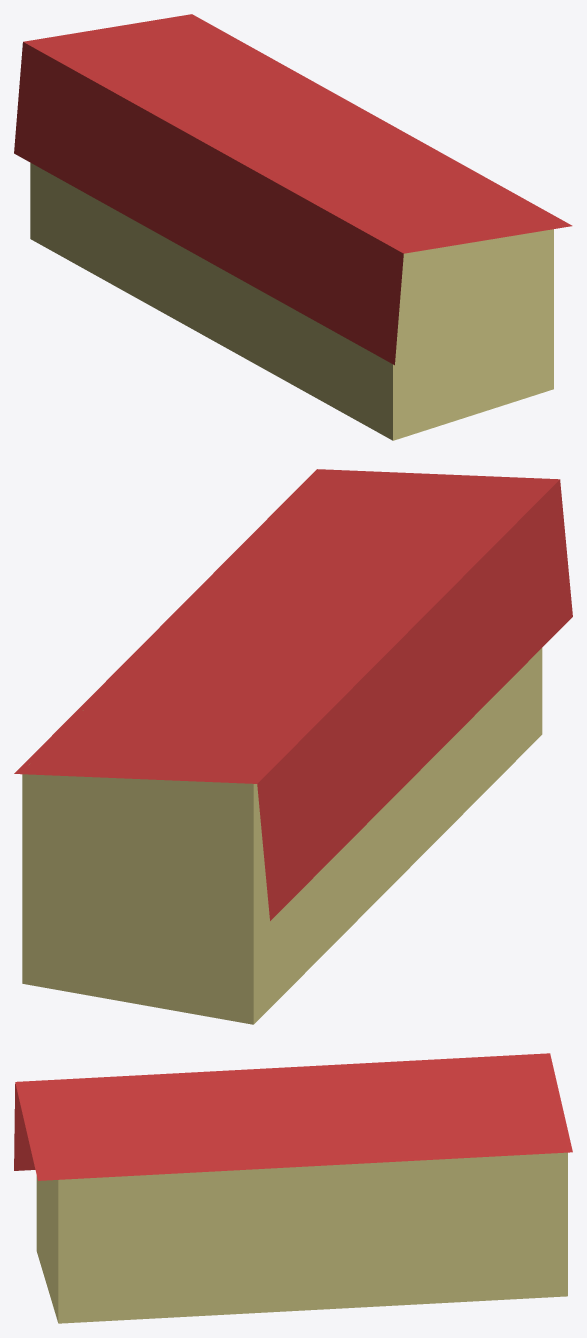
3 views of the same model, one above another, from view 1: azimuth 30°, elevation 25°; view 2: azimuth 150°, elevation 25°; view 3: azimuth 270°, elevation 25° (orthographic). The views are drawn at different scales.
Size of the model in its own units: 14.56 by 31.58 by 10.5.
